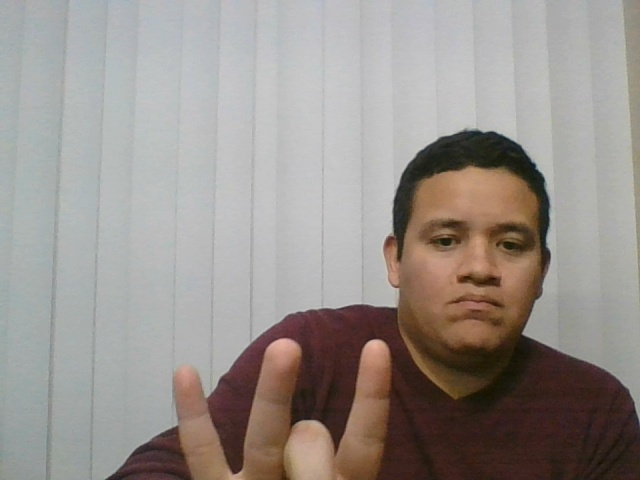Eight: (131, 312, 407, 475)
